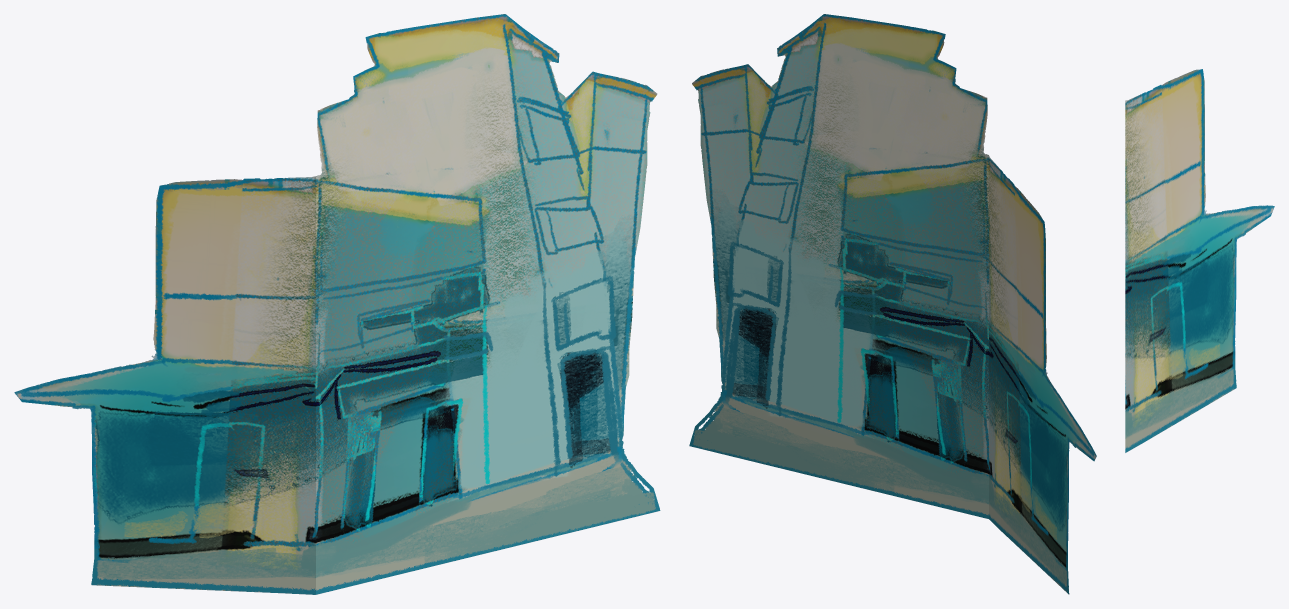
File: house_5.fbx
3 views of the same model, side by side, from view 1: azimuth 30°, elevation 25°; view 2: azimuth 150°, elevation 25°; view 3: azimuth 270°, elevation 25° (orthographic). The views are drawn at different scales.
Visible parts, largest first — view 1: mask15; view 2: mask15; view 3: mask15.
Part boxes in pixels (box(x1,y1,x2,y2)): mask15: box(14, 14, 660, 594); mask15: box(689, 14, 1096, 594); mask15: box(1125, 69, 1274, 452).
Size of the model in its own units: 8.32 by 7.79 by 2.29.
Materials: 1 (1 with a texture image).
